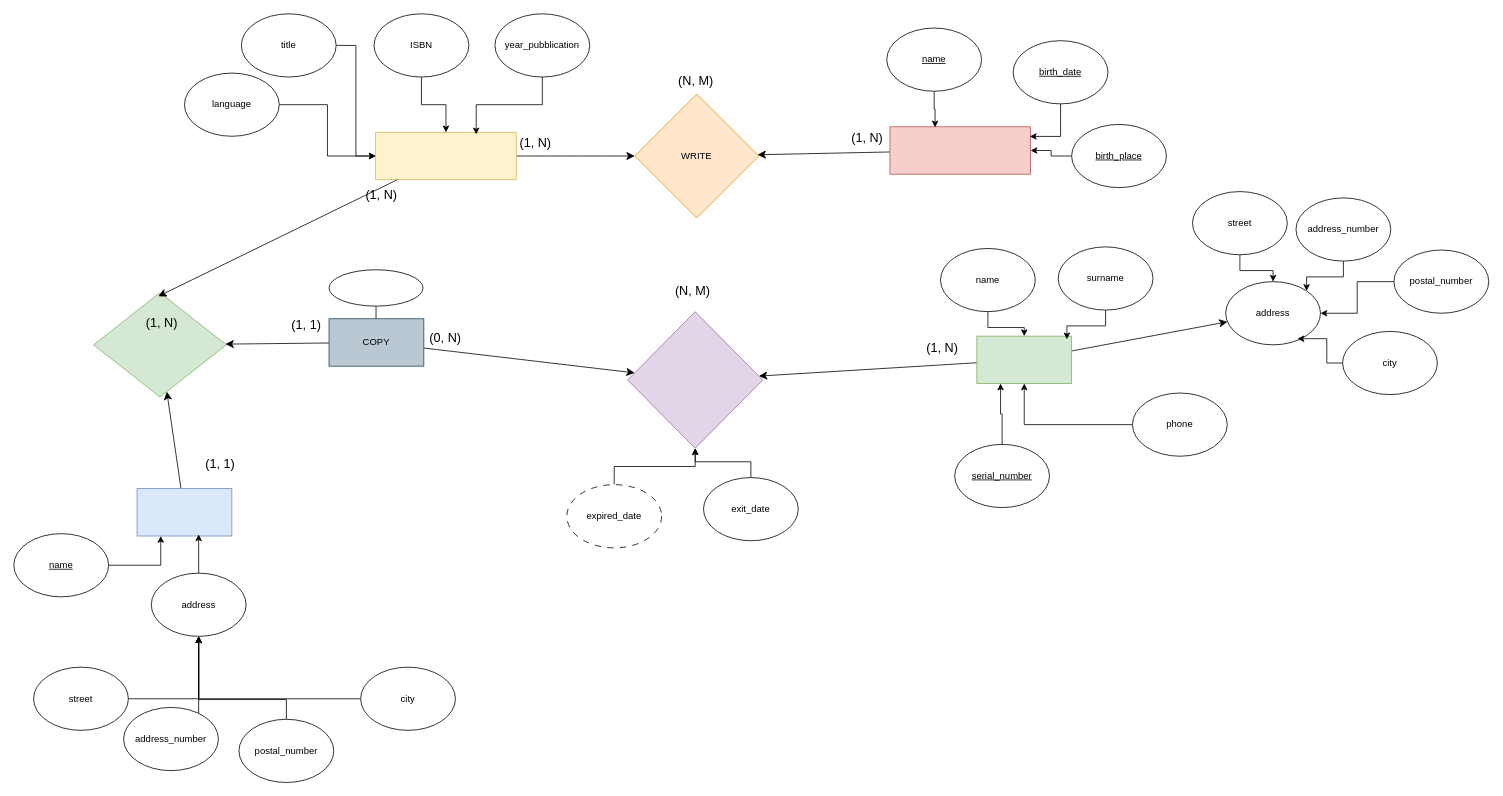
Some shapes in this 1503 by 796 pixel diagram are drawn without their labels. Each missing label, with the box of its shape:
AUTHOR: (889, 126, 1031, 174)
BOOK: (375, 132, 516, 180)
code: (328, 269, 423, 306)
DEPARTMENT: (136, 488, 232, 536)
JOAN: (627, 311, 763, 448)
STOCK: (93, 292, 226, 397)
USER: (976, 335, 1072, 384)
